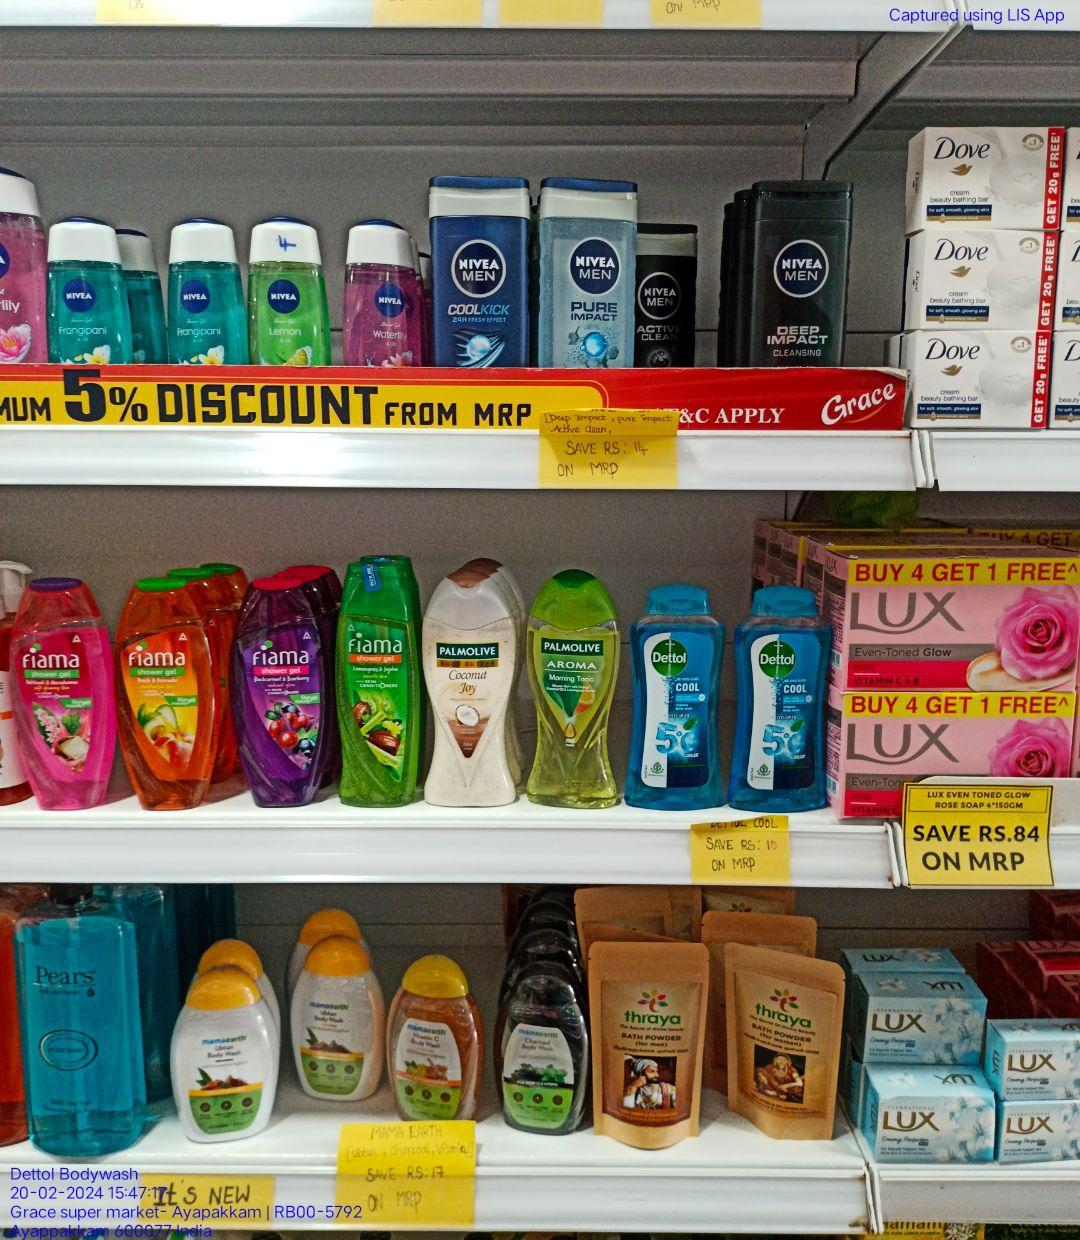Dettol_Bodywash_Cool: (629, 589, 725, 811), (733, 592, 826, 813)
Fiama_Shower_Gel_Lemongrass_and_Jojoba_250ML: (340, 563, 417, 805)
Fiama_Shower_Gel_Patchouli_and_Macadamia_250ML: (12, 588, 109, 810)
Fiama_Shower_Gel_Peach_and_Avocado_250ML: (120, 587, 212, 807)
Palmolive_Aroma_Morning_Tonic_Shower_Gel_250ML: (524, 583, 619, 812)
